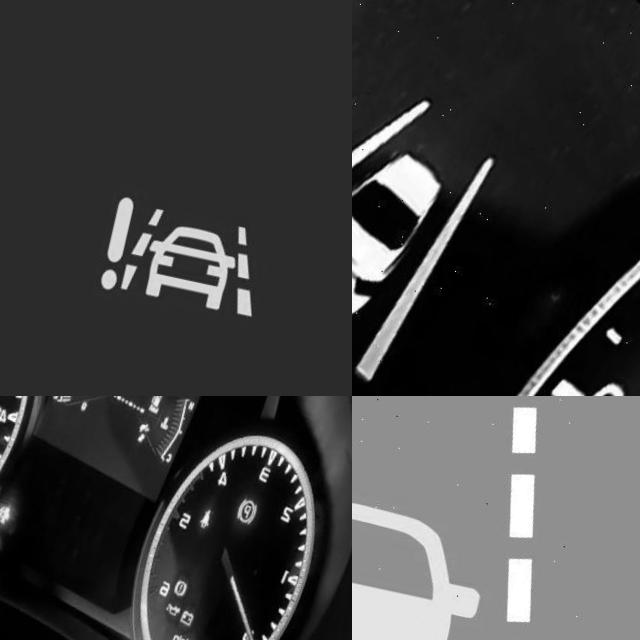Seat Belt: (215, 487, 232, 512)
